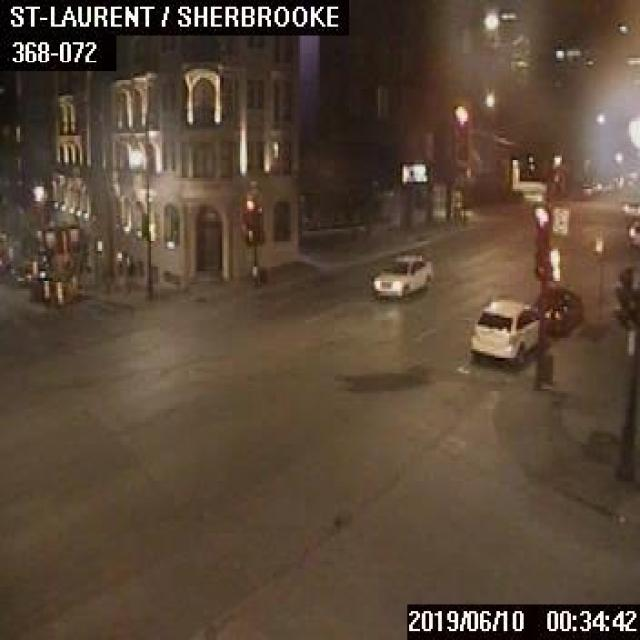construction: (40, 277, 49, 301), (54, 279, 62, 305), (30, 258, 37, 278)
vehicle: (466, 293, 536, 360), (371, 249, 433, 298), (530, 282, 582, 334), (621, 197, 638, 246)
